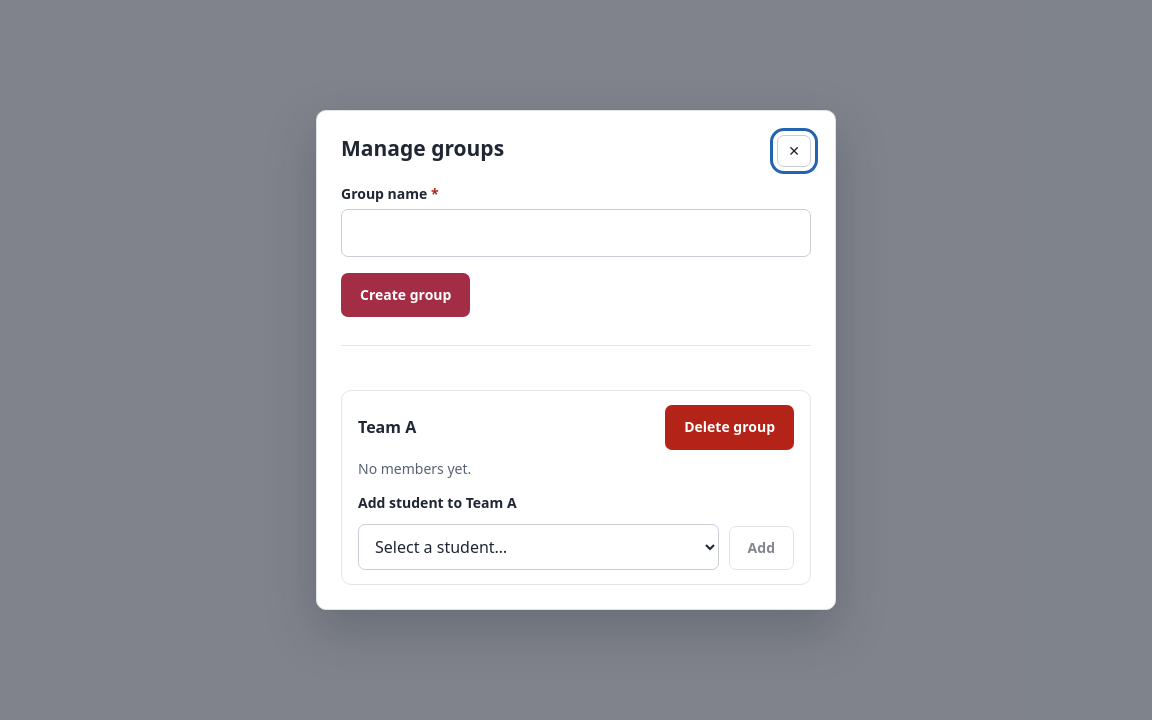
Test: ManageGroupsModal › explains why a group with submissions cannot be deleted
expect the heading "Team A" is shown: met, box [358, 415, 416, 440]
Click the button "Delete group" at (730, 428), box [665, 405, 794, 450]
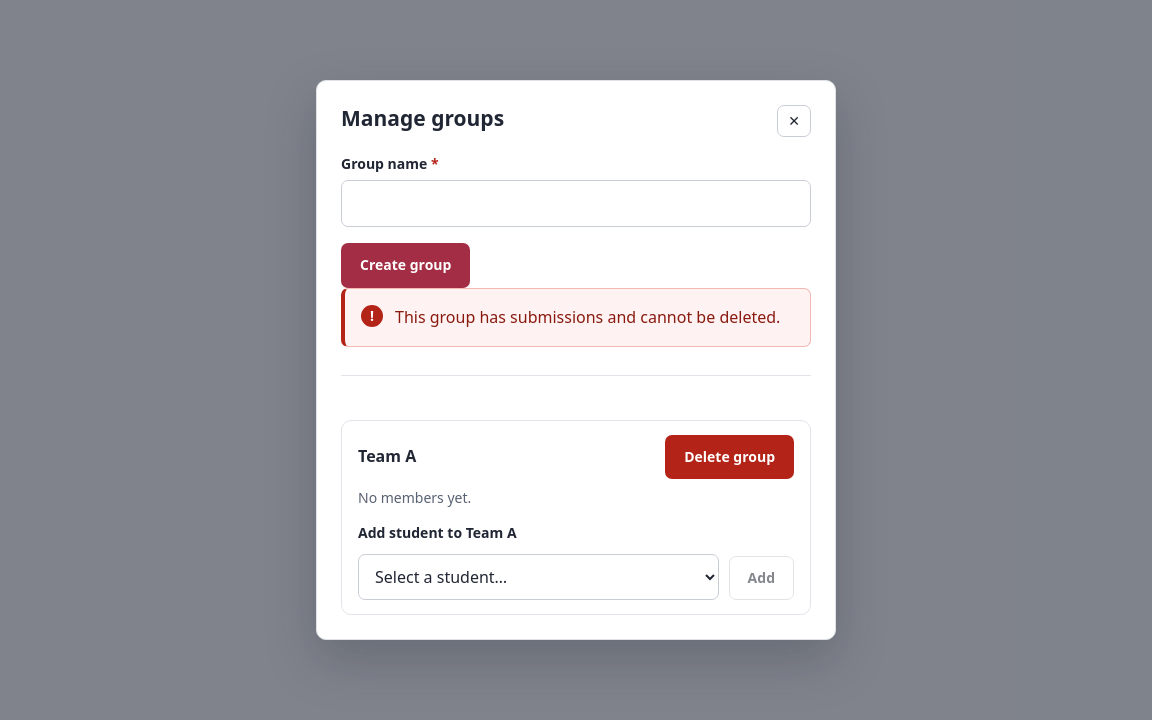
expect the message shows "has submissions and cannot be deleted": met, box [395, 306, 780, 328]
